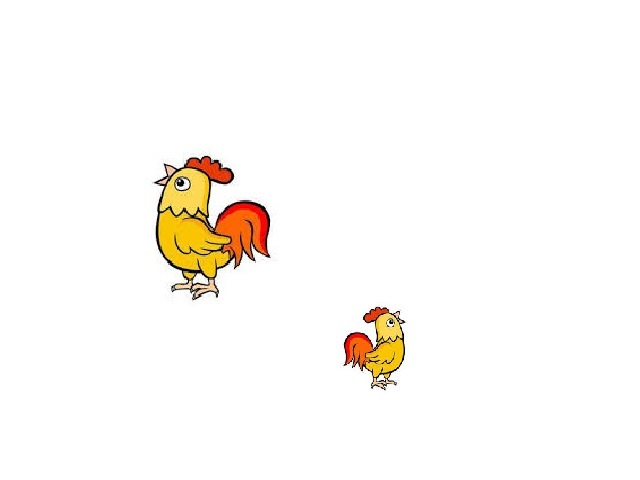crown: (190, 155, 234, 183), (355, 305, 389, 321)
eyes: (171, 179, 189, 190), (389, 317, 395, 327)
feet: (171, 280, 222, 301), (369, 375, 402, 391)
tail: (214, 199, 274, 268), (342, 333, 372, 372)
